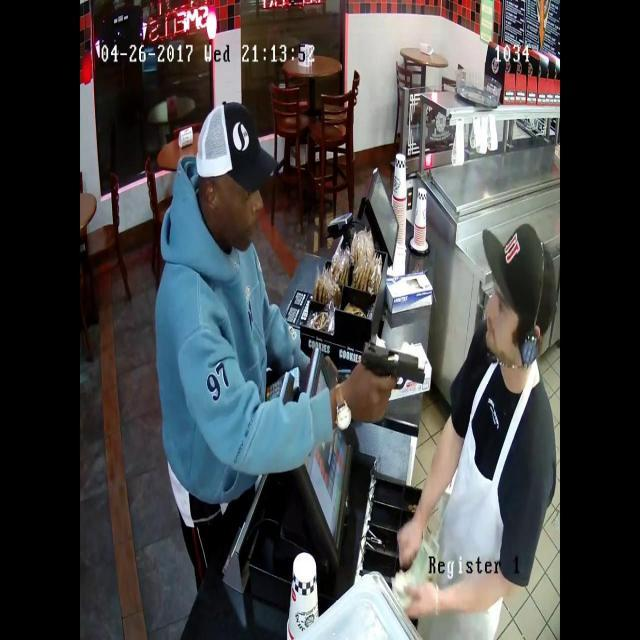weapon: (343, 326, 432, 414)
